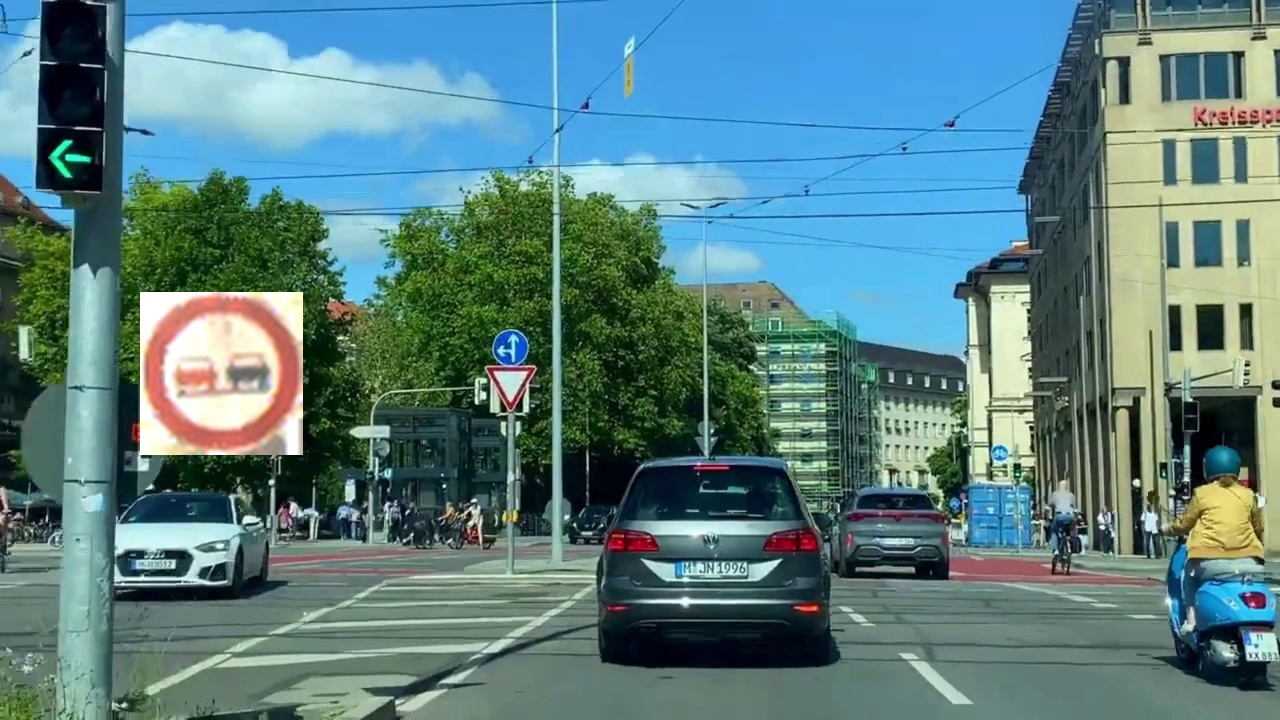No passing: (140, 292, 303, 455)
